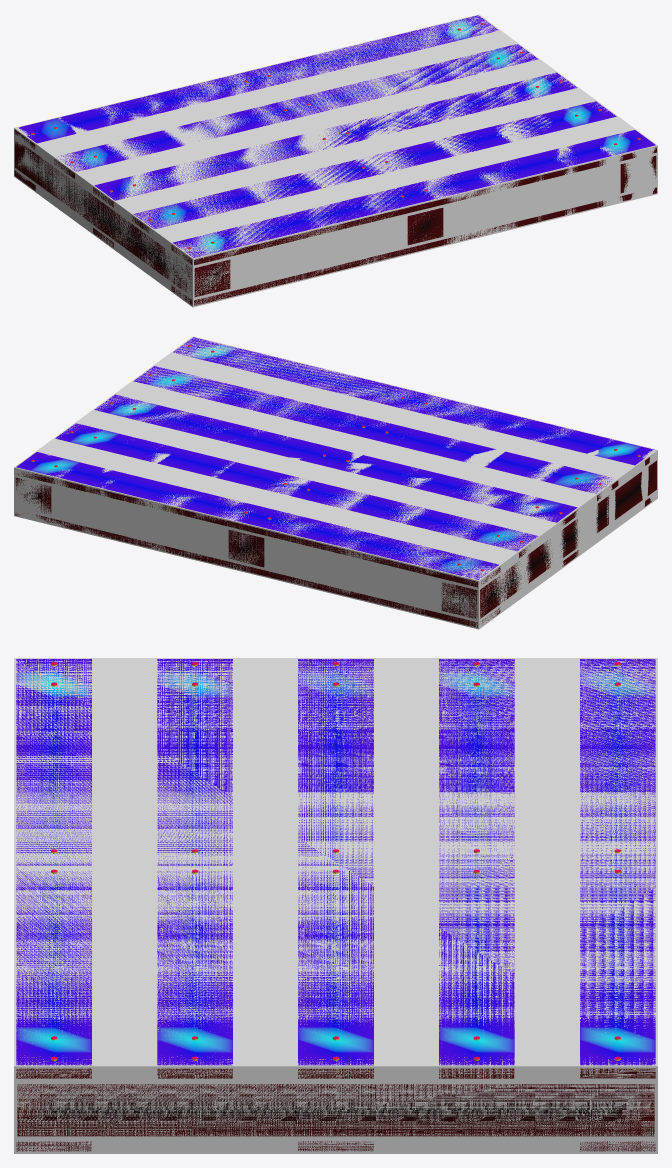
The model's file is prop_pallet.fbx.
3 views of the same model, one above another, from view 1: azimuth 30°, elevation 25°; view 2: azimuth 150°, elevation 25°; view 3: azimuth 270°, elevation 25° (orthographic). The views are drawn at different scales.
Visible parts, largest first — view 1: COL_0, prop_pallet; view 2: COL_0, prop_pallet; view 3: COL_0, prop_pallet.
Boxes of the visible parts, x1,y1,x2,y2 form: COL_0: [14, 14, 657, 307]; prop_pallet: [14, 15, 656, 305]; COL_0: [14, 336, 657, 629]; prop_pallet: [15, 337, 656, 627]; COL_0: [14, 658, 657, 1153]; prop_pallet: [16, 659, 655, 1151].
Size of the model in its own units: 1.2 by 0.122 by 0.8.
